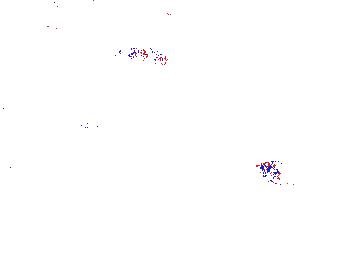X-ray fish: (258, 160, 302, 187)
red belly glassfish: (116, 42, 149, 62), (151, 47, 170, 67)
redtail glassfish: (42, 17, 110, 47), (47, 1, 113, 13)
